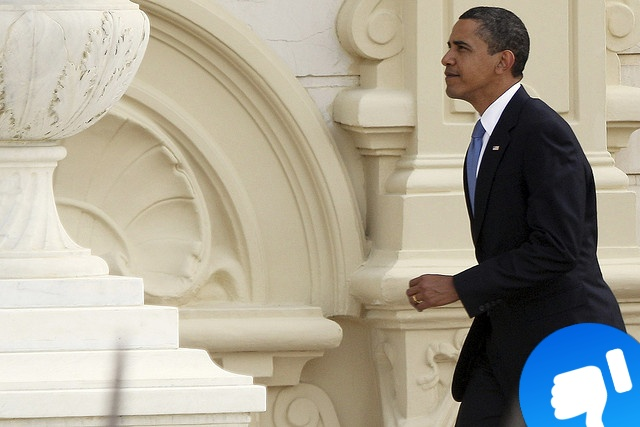like: (519, 323, 640, 427)
